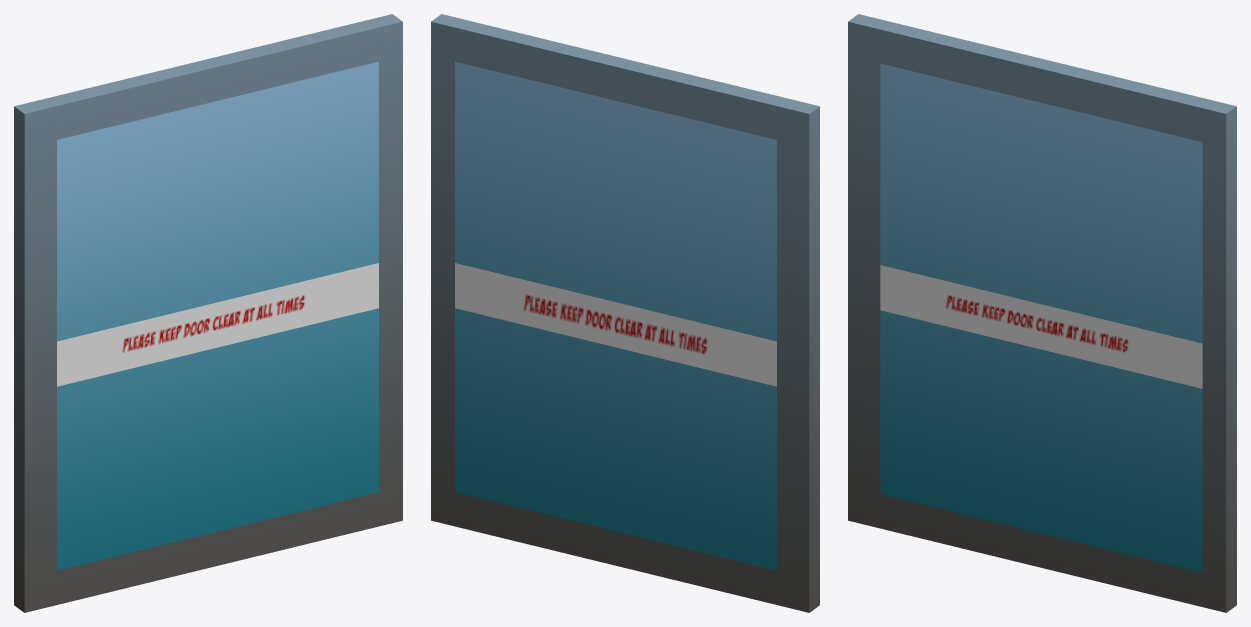
File: obj_testDoor.fbx
The picture shows the model from 3 angles, left to right: view 1: azimuth 30°, elevation 25°; view 2: azimuth 150°, elevation 25°; view 3: azimuth 330°, elevation 25°; orthographic projection.
Parts seen in each view (by area): view 1: geo_deliDoor; view 2: geo_deliDoor; view 3: geo_deliDoor.
Boxes of the visible parts, x1,y1,x2,y2 form: geo_deliDoor: (14, 14, 402, 612); geo_deliDoor: (431, 14, 819, 612); geo_deliDoor: (848, 14, 1236, 612).
Bounding box in the file's own units: 288 × 363 × 13.86.
2 materials, 2 textured.
